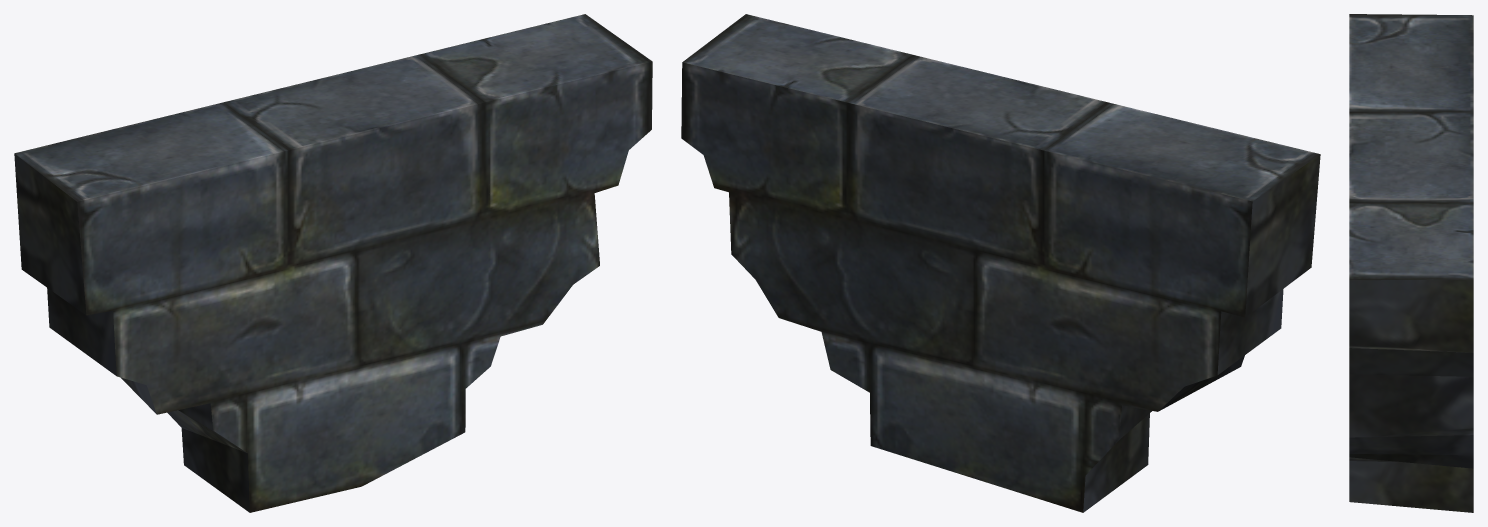
File: C_qiang003.fbx
The picture shows the model from 3 angles, left to right: view 1: azimuth 30°, elevation 25°; view 2: azimuth 150°, elevation 25°; view 3: azimuth 270°, elevation 25°; orthographic projection. The views are drawn at different scales.
Parts seen in each view (by area): view 1: C_qiang003; view 2: C_qiang003; view 3: C_qiang003.
Part boxes in pixels (x1,y1,x2,y2): C_qiang003: (14, 14, 652, 512); C_qiang003: (681, 14, 1320, 512); C_qiang003: (1349, 14, 1473, 512).
Bounding box in the file's own units: 241 × 142 × 47.61.
